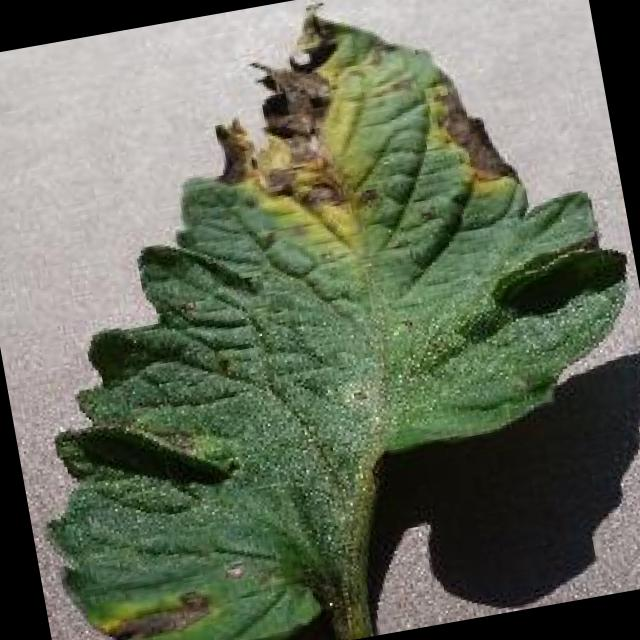Tomato_Early_Blight: (161, 0, 586, 295), (40, 510, 258, 640)
